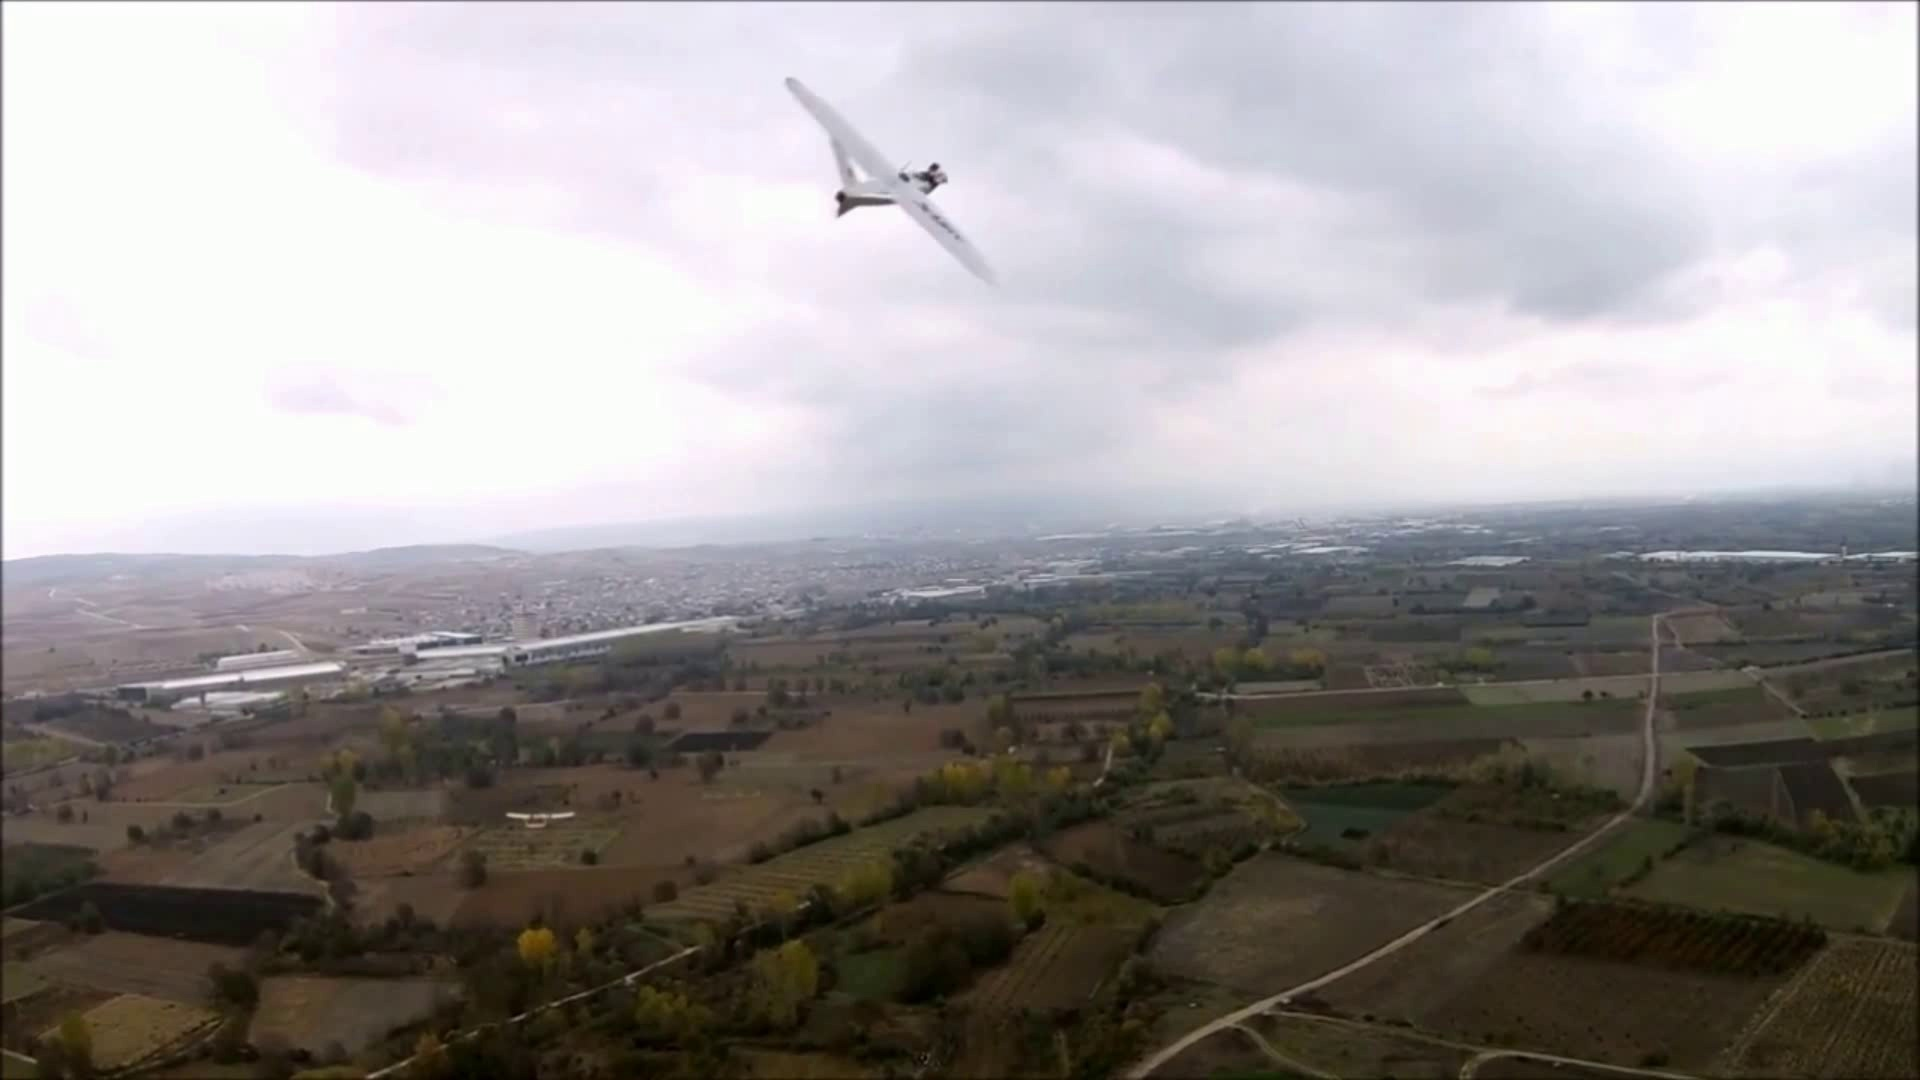airplane: (778, 76, 1000, 287)
